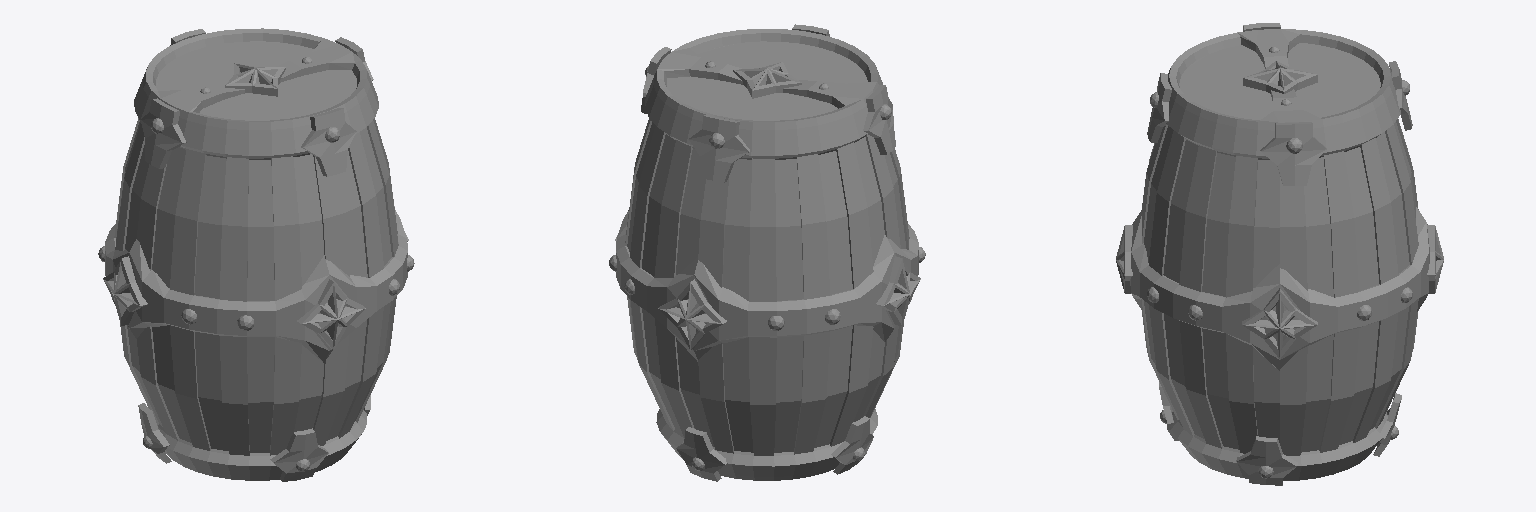
Rendered from barrel.obj.
3 renders of one model, left to right at view 1: azimuth 30°, elevation 25°; view 2: azimuth 150°, elevation 25°; view 3: azimuth 270°, elevation 25°, orthographic.
Parts seen in each view (by area): view 1: Cylinder, Cylinder.003, Cylinder.002, Cube.002, Cube.004, Cylinder.001, Cube.001, Cube, Icosphere.009; view 2: Cylinder, Cylinder.003, Cylinder.002, Cube.002, Cube.004, Cylinder.001, Cube.001, Cube, Icosphere.009; view 3: Cylinder, Cylinder.003, Cylinder.002, Cube.002, Cube.004, Cylinder.001, Cube.001, Cube, Icosphere.009.
Part boxes in pixels (bbox=[...]): Cylinder: bbox=[114, 41, 398, 455]; Cylinder.003: bbox=[134, 28, 378, 158]; Cylinder.002: bbox=[105, 210, 407, 362]; Cube.002: bbox=[141, 29, 373, 176]; Cube.004: bbox=[103, 206, 408, 349]; Cylinder.001: bbox=[158, 410, 366, 480]; Cube.001: bbox=[138, 395, 370, 481]; Cube: bbox=[225, 63, 285, 96]; Icosphere.009: bbox=[98, 246, 414, 330]; Cylinder: bbox=[625, 41, 909, 455]; Cylinder.003: bbox=[645, 29, 882, 158]; Cylinder.002: bbox=[616, 210, 918, 361]; Cube.002: bbox=[641, 24, 895, 182]; Cube.004: bbox=[615, 235, 920, 350]; Cylinder.001: bbox=[656, 409, 877, 480]; Cube.001: bbox=[676, 416, 873, 481]; Cube: bbox=[733, 62, 801, 98]; Icosphere.009: bbox=[609, 247, 925, 330]; Cylinder: bbox=[1141, 43, 1418, 455]; Cylinder.003: bbox=[1166, 29, 1400, 158]; Cylinder.002: bbox=[1130, 207, 1429, 370]; Cube.002: bbox=[1147, 23, 1412, 185]; Cube.004: bbox=[1116, 225, 1443, 358]; Cylinder.001: bbox=[1170, 410, 1387, 480]; Cube.001: bbox=[1159, 382, 1401, 485]; Cube: bbox=[1243, 61, 1317, 93]; Icosphere.009: bbox=[1147, 287, 1412, 320].
Size of the model in its own units: 910 by 1148 by 910.